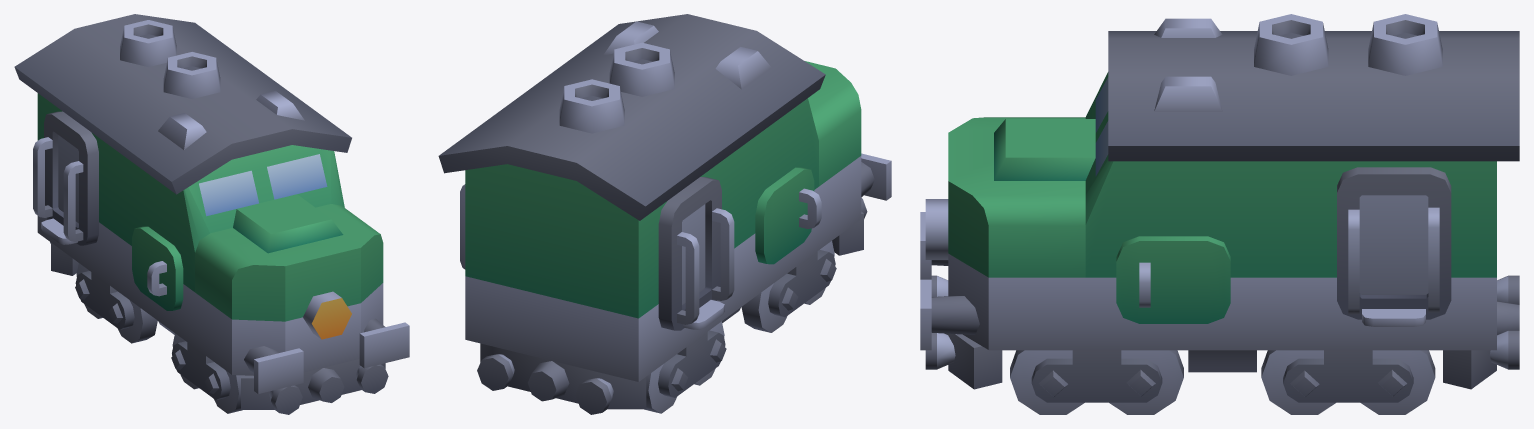
The model's file is train-diesel-box-a.glb.
3 views of the same model, side by side, from view 1: azimuth 30°, elevation 25°; view 2: azimuth 150°, elevation 25°; view 3: azimuth 270°, elevation 25° (orthographic). The views are drawn at different scales.
Visible parts, largest first — view 1: train-diesel-box-a, wheels-back, wheels-front; view 2: train-diesel-box-a, wheels-front, wheels-back; view 3: train-diesel-box-a, wheels-back, wheels-front.
Boxes of the visible parts, box(x1,y1,x2,y2) form: train-diesel-box-a: box(14, 14, 409, 414); wheels-back: box(75, 263, 157, 343); wheels-front: box(171, 333, 242, 413); train-diesel-box-a: box(438, 14, 891, 414); wheels-front: box(741, 241, 836, 332); wheels-back: box(644, 321, 726, 413); train-diesel-box-a: box(920, 14, 1519, 389); wheels-back: box(1261, 350, 1435, 414); wheels-front: box(1010, 350, 1183, 414).
Bounding box in the file's own units: 1.35 × 1.67 × 2.62.
